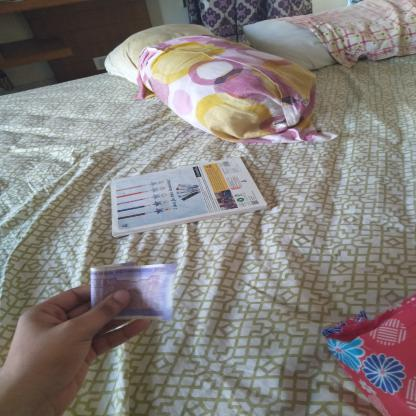New100Back: (92, 268, 173, 318)
